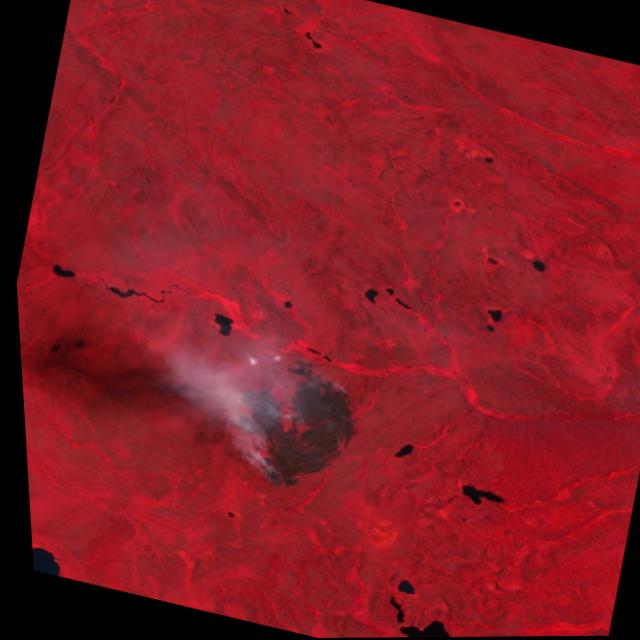fire: (195, 336, 380, 510)
